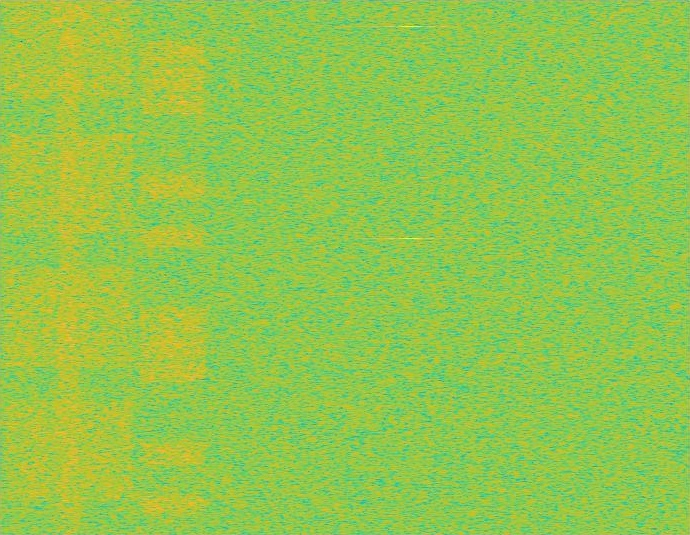5G: (0, 0, 138, 534)
DSSS: (53, 0, 85, 534)
LTE: (138, 0, 207, 534)
Radar: (404, 0, 417, 534)
